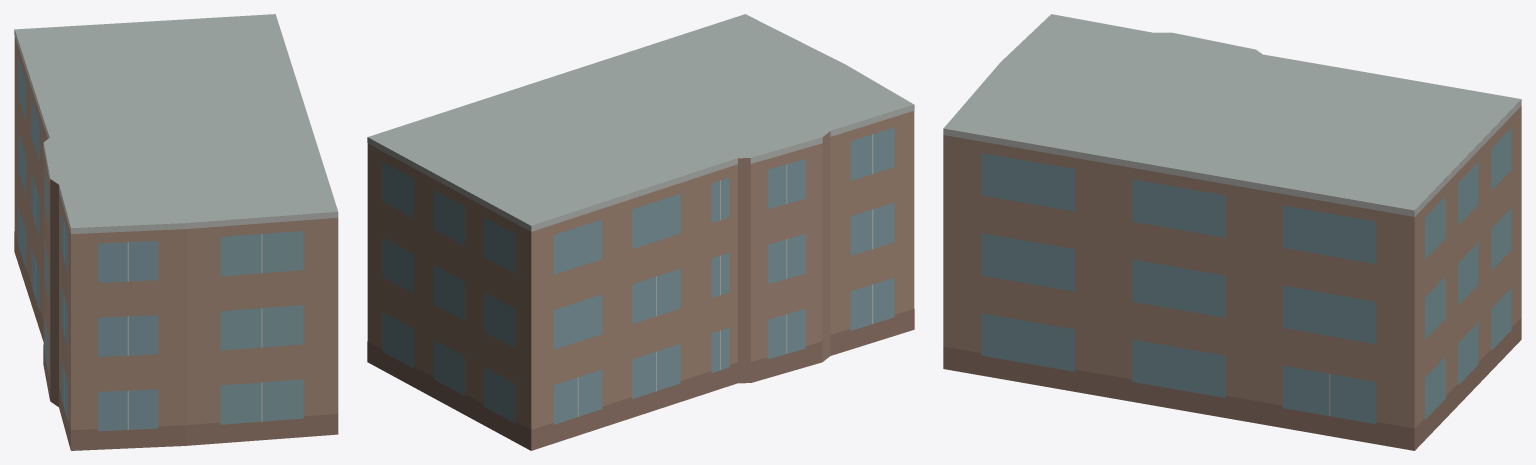
Rendered from survey-upis-32537736.glb.
The picture shows the model from 3 angles, left to right: view 1: azimuth 30°, elevation 25°; view 2: azimuth 150°, elevation 25°; view 3: azimuth 270°, elevation 25°; orthographic projection. The views are drawn at different scales.
Parts seen in each view (by area): view 1: survey-upis-32537736.tmp; view 2: survey-upis-32537736.tmp; view 3: survey-upis-32537736.tmp.
Part boxes in pixels (box(x1,y1,x2,y2)): survey-upis-32537736.tmp: box(14, 14, 338, 450); survey-upis-32537736.tmp: box(367, 14, 914, 450); survey-upis-32537736.tmp: box(943, 14, 1521, 450).
Size of the model in its own units: 15.96 by 9.1 by 19.85.
